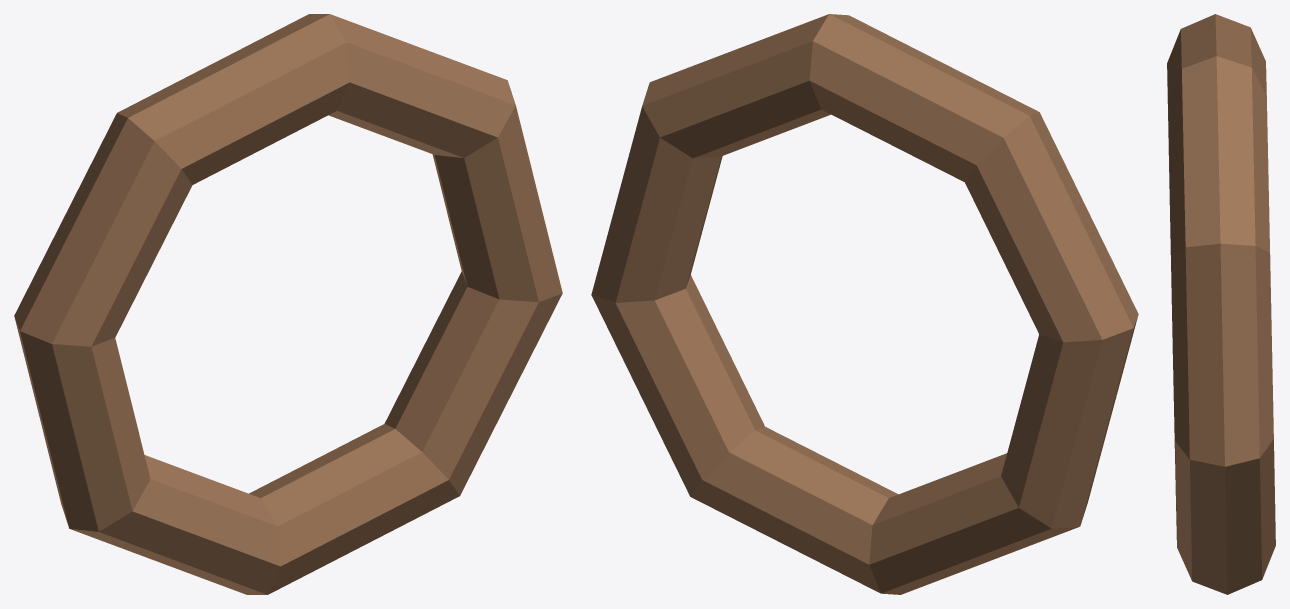
The model's file is Ring_Attach_B.fbx.
3 renders of one model, left to right at view 1: azimuth 30°, elevation 25°; view 2: azimuth 150°, elevation 25°; view 3: azimuth 270°, elevation 25°, orthographic. The views are drawn at different scales.
Visible parts, largest first — view 1: Ring_Attach_B; view 2: Ring_Attach_B; view 3: Ring_Attach_B.
Part boxes in pixels (bbox=[...]): Ring_Attach_B: bbox=[14, 14, 562, 594]; Ring_Attach_B: bbox=[591, 14, 1138, 594]; Ring_Attach_B: bbox=[1167, 14, 1275, 594].
Bounding box in the file's own units: 9.66 × 9.66 × 1.79.
